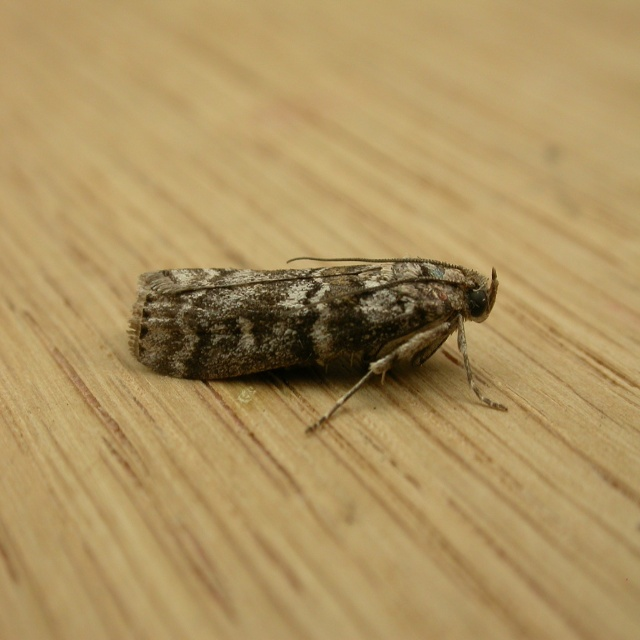Moths and butterflies: (126, 256, 508, 437)
